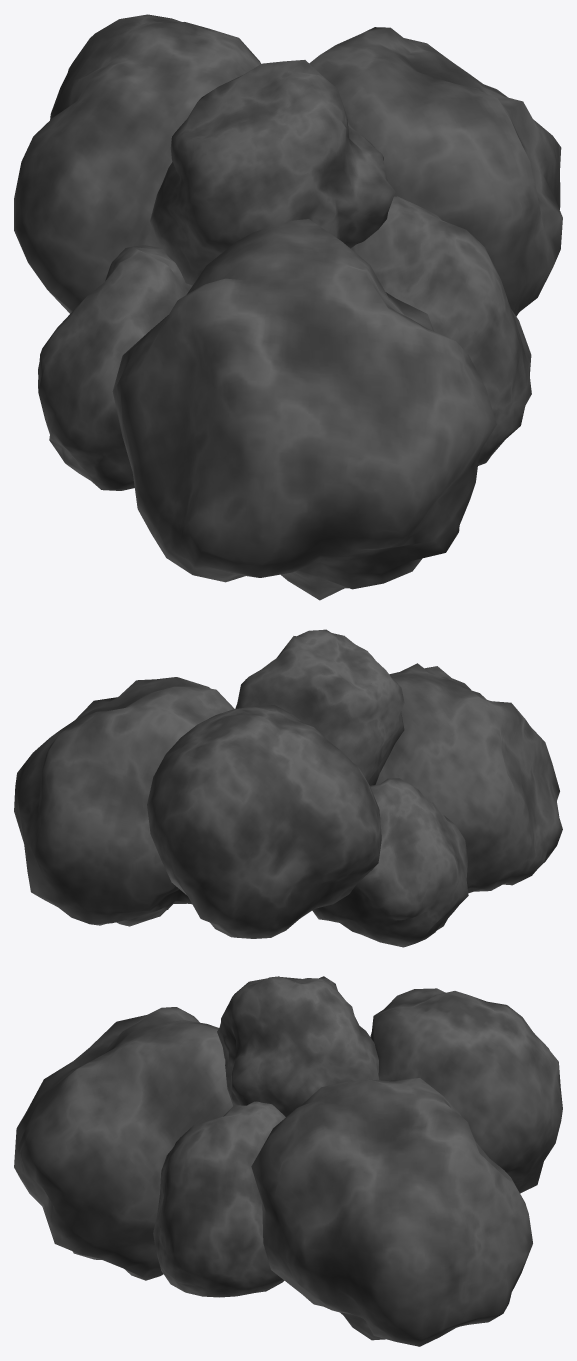
The model's file is boulder_M.glb.
3 views of the same model, one above another, from view 1: azimuth 30°, elevation 25°; view 2: azimuth 150°, elevation 25°; view 3: azimuth 270°, elevation 25° (orthographic). The views are drawn at different scales.
Parts seen in each view (by area): view 1: BoulderOutcropPlainMedium; view 2: BoulderOutcropPlainMedium; view 3: BoulderOutcropPlainMedium.
Part boxes in pixels (box(x1,y1,x2,y2)): BoulderOutcropPlainMedium: box(14, 14, 562, 600); BoulderOutcropPlainMedium: box(14, 629, 562, 947); BoulderOutcropPlainMedium: box(14, 976, 562, 1346).
Size of the model in its own units: 5.22 by 3.74 by 5.87.
1 material, 1 textured.
